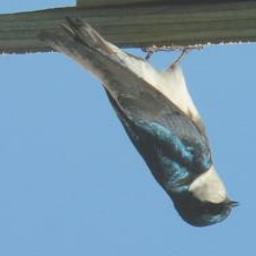Swallow: (34, 14, 242, 230)
